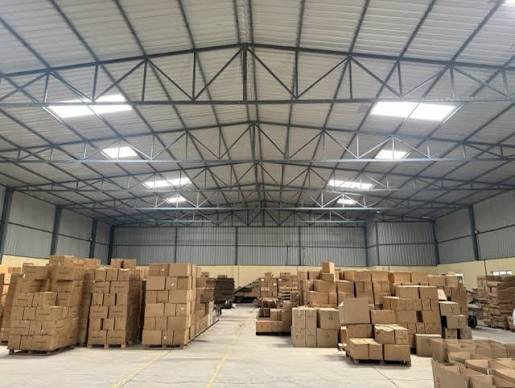box: (260, 303, 285, 333), (15, 288, 58, 305), (342, 300, 369, 326), (12, 264, 41, 285), (350, 338, 379, 358), (258, 272, 279, 298), (355, 282, 385, 300), (291, 327, 316, 347), (384, 345, 413, 362), (8, 306, 36, 323), (414, 336, 440, 354), (54, 265, 79, 282), (310, 291, 337, 305), (30, 333, 52, 349), (39, 309, 65, 322), (373, 307, 394, 323), (165, 329, 184, 346), (13, 324, 39, 336), (303, 305, 317, 327), (317, 260, 334, 278), (322, 308, 338, 327), (171, 262, 191, 277), (107, 257, 137, 267), (88, 328, 103, 348), (359, 271, 388, 281), (378, 325, 395, 342), (87, 305, 109, 318), (143, 330, 162, 345), (147, 274, 163, 291), (139, 318, 165, 328), (163, 302, 179, 318), (168, 317, 189, 329), (107, 332, 125, 346), (143, 291, 165, 302), (320, 329, 334, 346), (420, 284, 438, 297), (292, 309, 305, 327), (423, 311, 442, 323), (149, 262, 168, 274), (147, 303, 162, 318), (396, 310, 414, 322), (172, 291, 190, 303), (444, 303, 458, 318), (113, 280, 128, 293), (399, 285, 415, 297), (113, 294, 129, 306), (398, 300, 419, 309), (338, 280, 353, 292), (448, 319, 465, 329), (114, 269, 129, 280), (103, 291, 115, 304), (11, 335, 24, 347), (110, 307, 124, 318), (91, 292, 103, 304), (96, 280, 109, 291), (101, 316, 112, 329), (317, 280, 332, 289), (166, 278, 177, 290), (179, 278, 190, 290), (87, 318, 100, 328), (98, 267, 109, 278), (432, 301, 442, 310), (116, 319, 125, 329), (181, 305, 189, 316), (423, 301, 432, 310)
